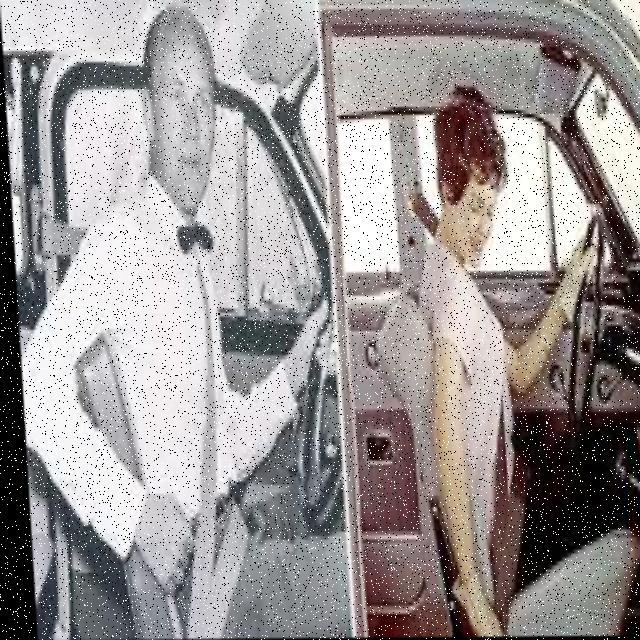seatbelt: (104, 236, 253, 640), (399, 185, 530, 638)
